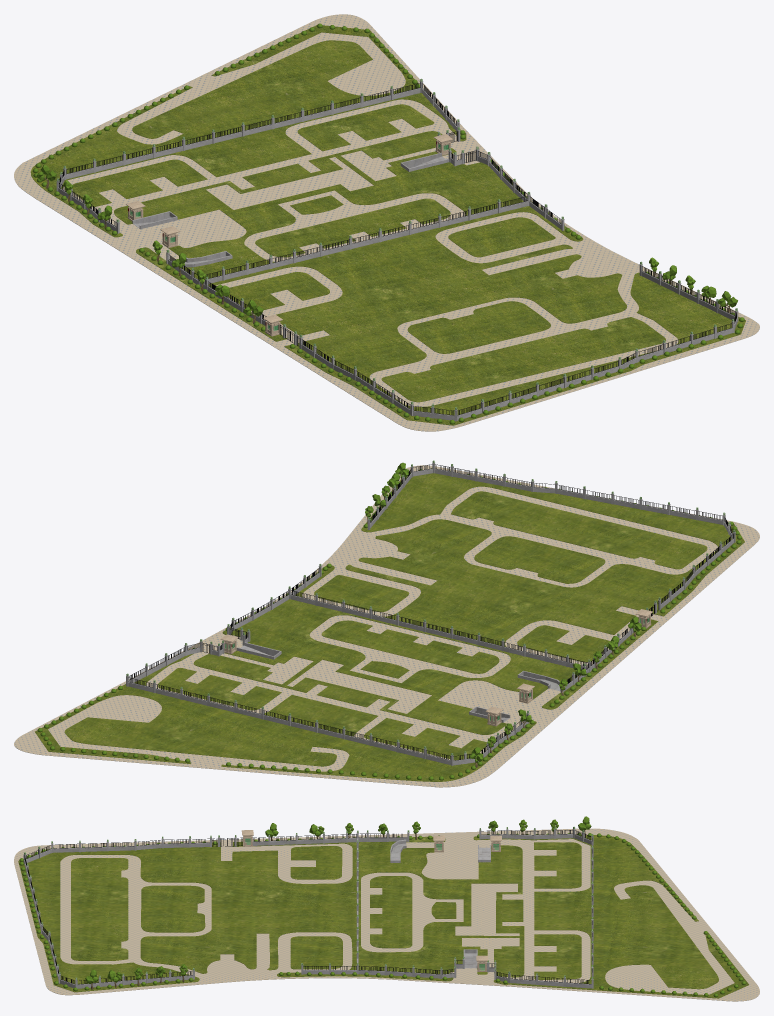
The model's file is 4_floor.FBX.
3 views of the same model, one above another, from view 1: azimuth 30°, elevation 25°; view 2: azimuth 150°, elevation 25°; view 3: azimuth 270°, elevation 25° (orthographic). The views are drawn at different scales.
Visible parts, largest first — view 1: 4_grass, 4_floor; view 2: 4_grass, 4_floor; view 3: 4_grass, 4_floor.
Boxes of the visible parts, x1,y1,x2,y2 form: 4_grass: (30,25,745,425); 4_floor: (14,14,759,431); 4_grass: (35,473,744,781); 4_floor: (14,465,759,787); 4_grass: (18,835,748,998); 4_floor: (14,828,759,1001).
Bounding box in the file's own units: 141 × 9.1 × 258.
